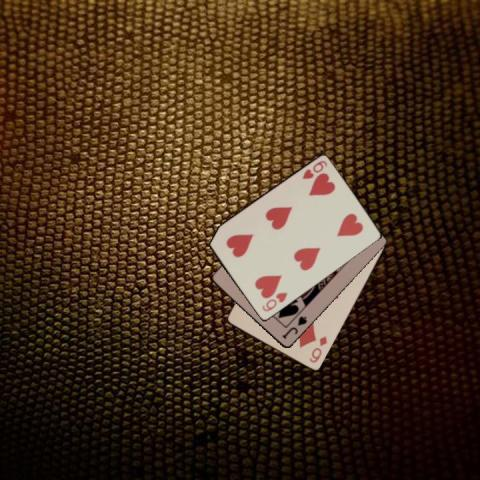6d: (306, 333, 329, 365)
6h: (259, 290, 289, 314), (299, 158, 329, 181)
Js: (278, 313, 308, 341)
